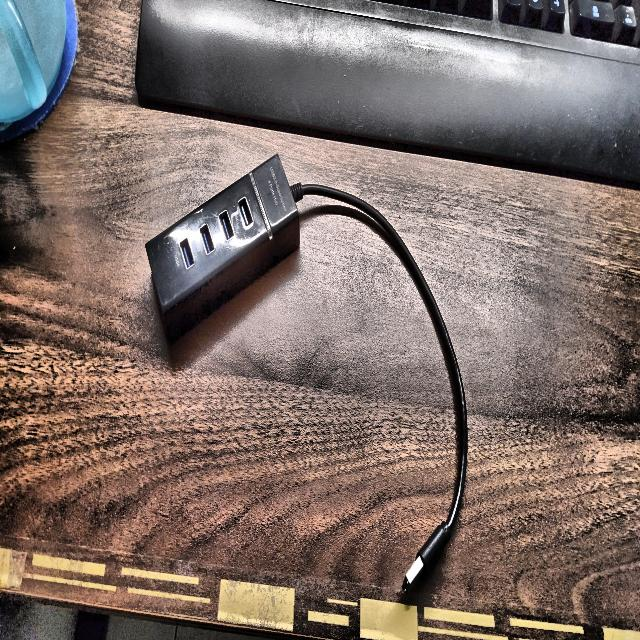HUB: (146, 154, 467, 593)
Keyboard: (135, 0, 640, 187)
